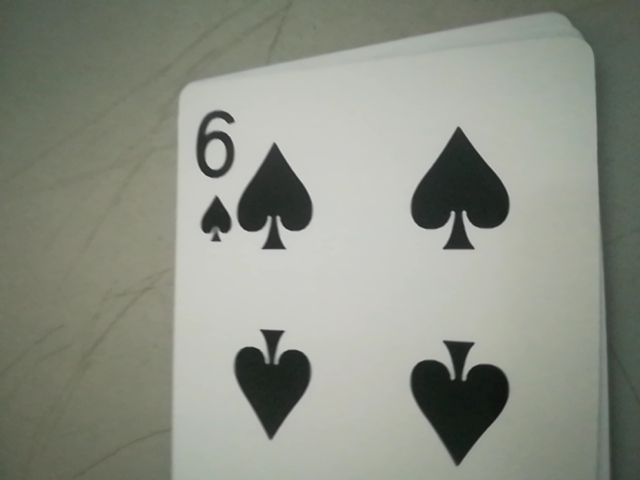ht 6: (182, 96, 237, 251)
